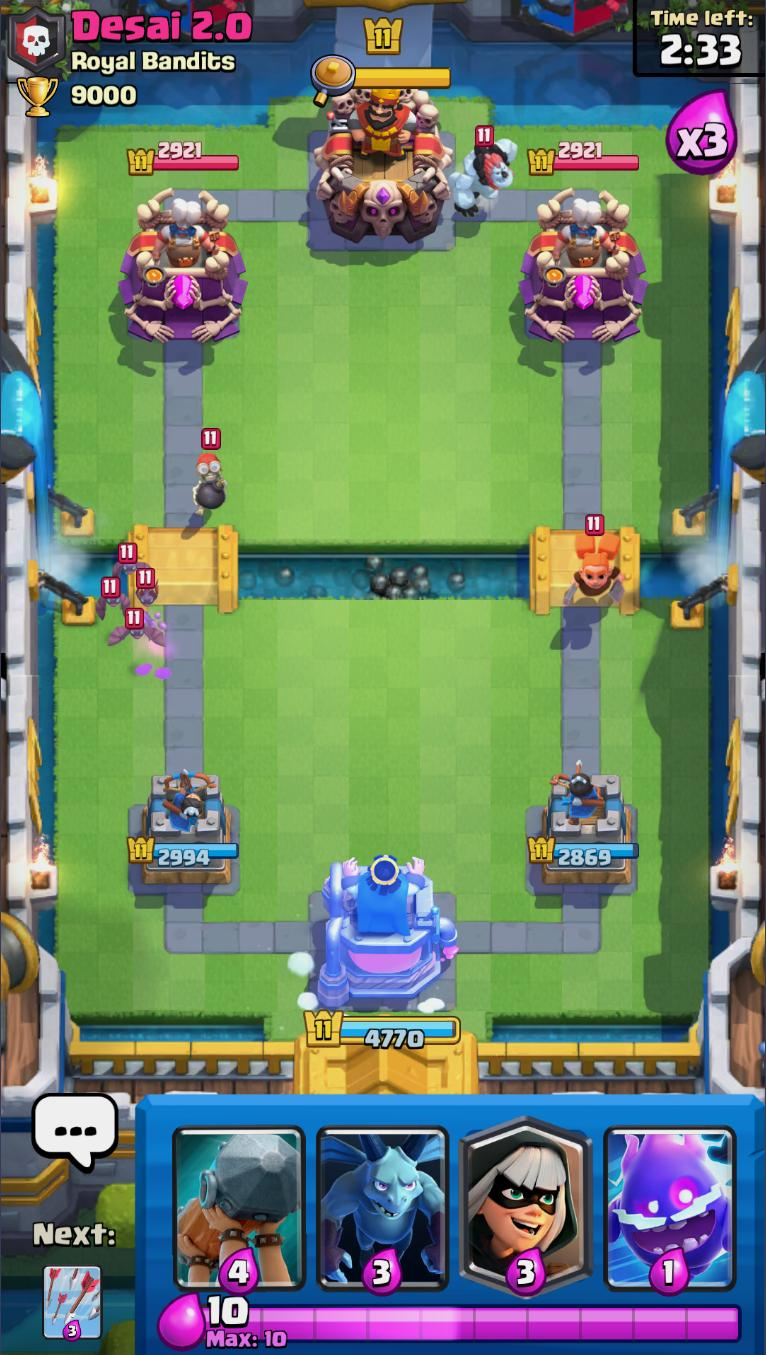ArrowNext: (42, 1263, 104, 1343)
BanditDeck: (450, 1097, 599, 1295)
Bat: (105, 605, 165, 648), (91, 578, 135, 620), (109, 542, 153, 582), (131, 570, 164, 609)
BattleRamDeck: (173, 1098, 310, 1290)
Berserker: (569, 514, 628, 603)
Bomber: (189, 430, 227, 518)
Chef: (149, 199, 217, 273), (553, 197, 617, 274)
ElectroSpiritDeck: (599, 1097, 744, 1294)
Elixir: (202, 1296, 742, 1349)
EnemyTower: (118, 187, 248, 346), (520, 188, 648, 345)
IceGolem: (449, 125, 519, 220)
KingTower: (309, 78, 456, 245)
MinionsDeck: (312, 1097, 453, 1296)
MyKingHP: (305, 1005, 461, 1051)
MyKingTower: (316, 858, 458, 1009)
MyPrincessTower: (128, 770, 241, 894), (528, 775, 640, 894)
MyPrincessTowerHP: (126, 835, 240, 869), (527, 835, 641, 869)
TowerPrincessHP: (526, 139, 641, 178), (125, 140, 240, 176)
